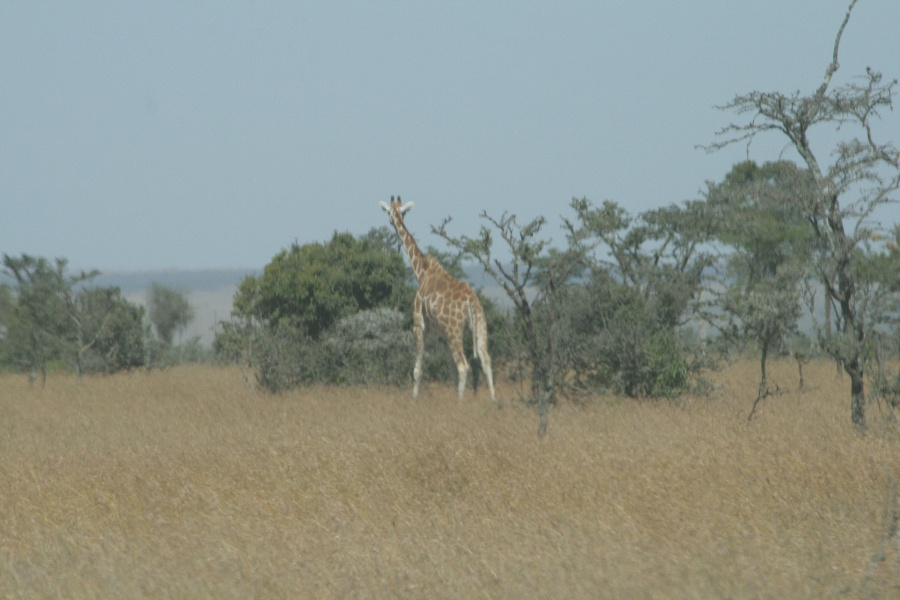giraffe: (372, 188, 502, 407)
